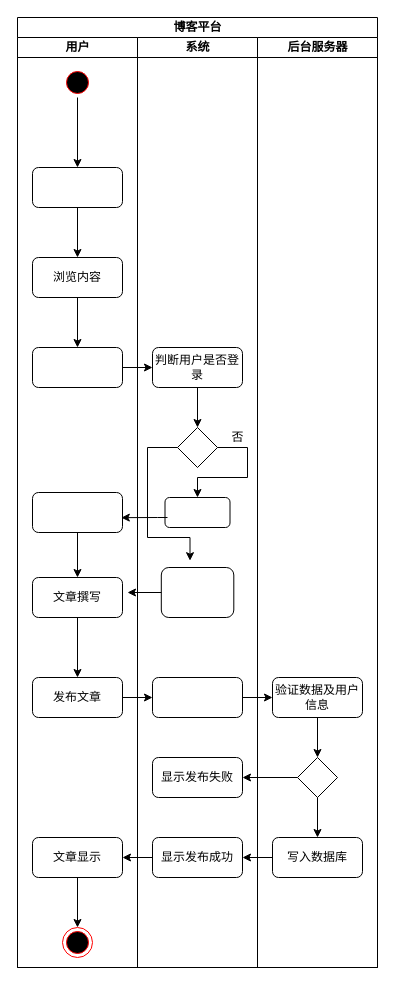
This 395x985 diagram has some shape labels left out. Here are the shapes that lost their labels. From the top down, the centre of each, then its label:
At [77,187]: "进入网站".
At [77,367]: "撰写文章/评论".
At [77,512]: "登录".
At [197,512]: "跳转登录界面".
At [197,592]: "跳转文章撰写界面/评论界面".
At [197,697]: "确认提交".
